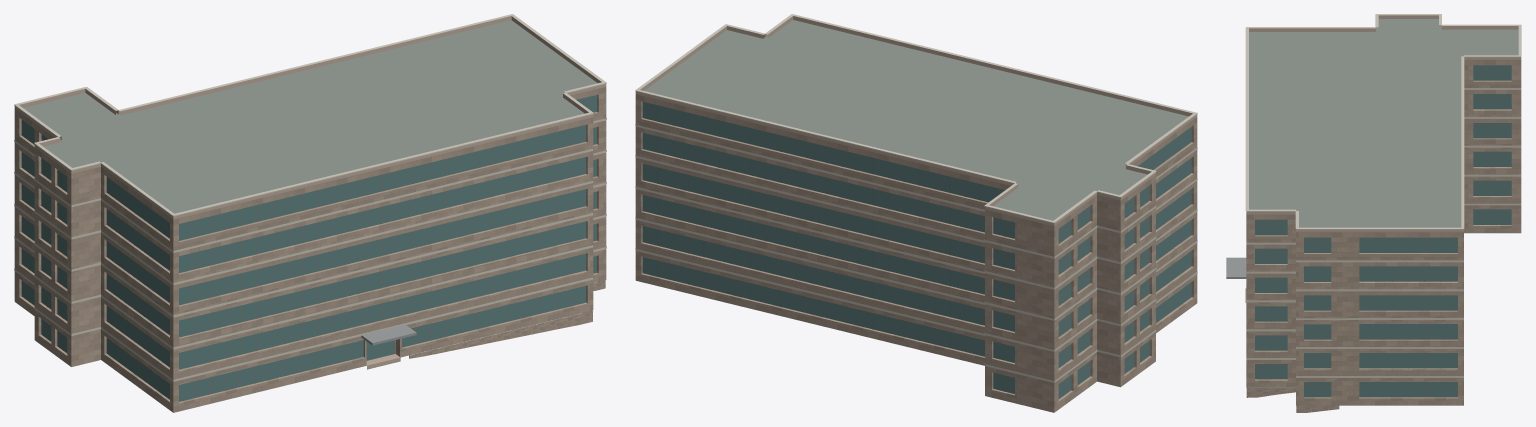
3 views of the same model, side by side, from view 1: azimuth 30°, elevation 25°; view 2: azimuth 150°, elevation 25°; view 3: azimuth 270°, elevation 25° (orthographic). The views are drawn at different scales.
Visible parts, largest first — view 1: business__wall, business__glass, business__roof, business__trim, business__parapet, business__frame, business__foundationSkirt, business__canopy; view 2: business__wall, business__roof, business__glass, business__trim, business__parapet, business__frame; view 3: business__roof, business__wall, business__glass, business__trim, business__parapet, business__frame, business__foundationSkirt, business__canopy.
Boxes of the visible parts, left/top/right/bottom form: business__wall: left=14, top=87, right=606, bottom=412; business__glass: left=21, top=95, right=597, bottom=401; business__roof: left=19, top=20, right=604, bottom=412; business__trim: left=14, top=14, right=606, bottom=381; business__parapet: left=14, top=16, right=606, bottom=219; business__frame: left=21, top=98, right=597, bottom=398; business__foundationSkirt: left=409, top=280, right=605, bottom=358; business__canopy: left=361, top=324, right=416, bottom=345; business__wall: left=635, top=94, right=1197, bottom=412; business__roof: left=636, top=20, right=1192, bottom=412; business__glass: left=642, top=102, right=1191, bottom=398; business__trim: left=635, top=14, right=1197, bottom=382; business__parapet: left=635, top=16, right=1197, bottom=226; business__frame: left=657, top=105, right=1182, bottom=395; business__roof: left=1246, top=19, right=1520, bottom=387; business__wall: left=1246, top=60, right=1521, bottom=405; business__glass: left=1255, top=65, right=1511, bottom=397; business__trim: left=1245, top=14, right=1521, bottom=377; business__parapet: left=1246, top=15, right=1521, bottom=232; business__frame: left=1255, top=65, right=1511, bottom=397; business__foundationSkirt: left=1246, top=388, right=1339, bottom=412; business__canopy: left=1226, top=257, right=1246, bottom=278.
Bounding box in the file's own units: 55.92 × 22.7 × 32.51.
Materials: 10 (2 with a texture image).
